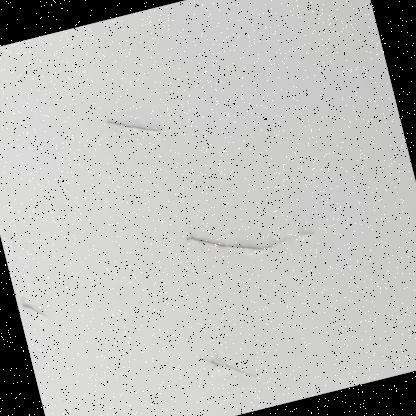Crack: (162, 183, 326, 284), (89, 80, 178, 166), (9, 256, 74, 366), (194, 330, 279, 408)
